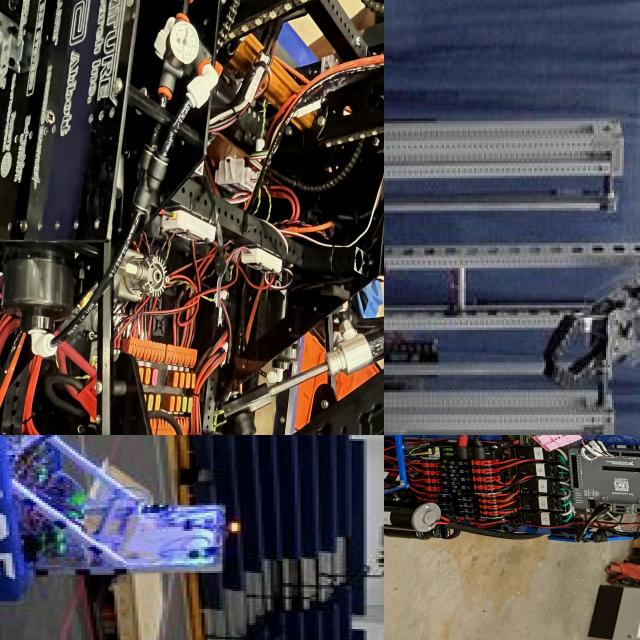FRC-Robots: (384, 32, 640, 435), (0, 435, 384, 629), (384, 435, 640, 542)
